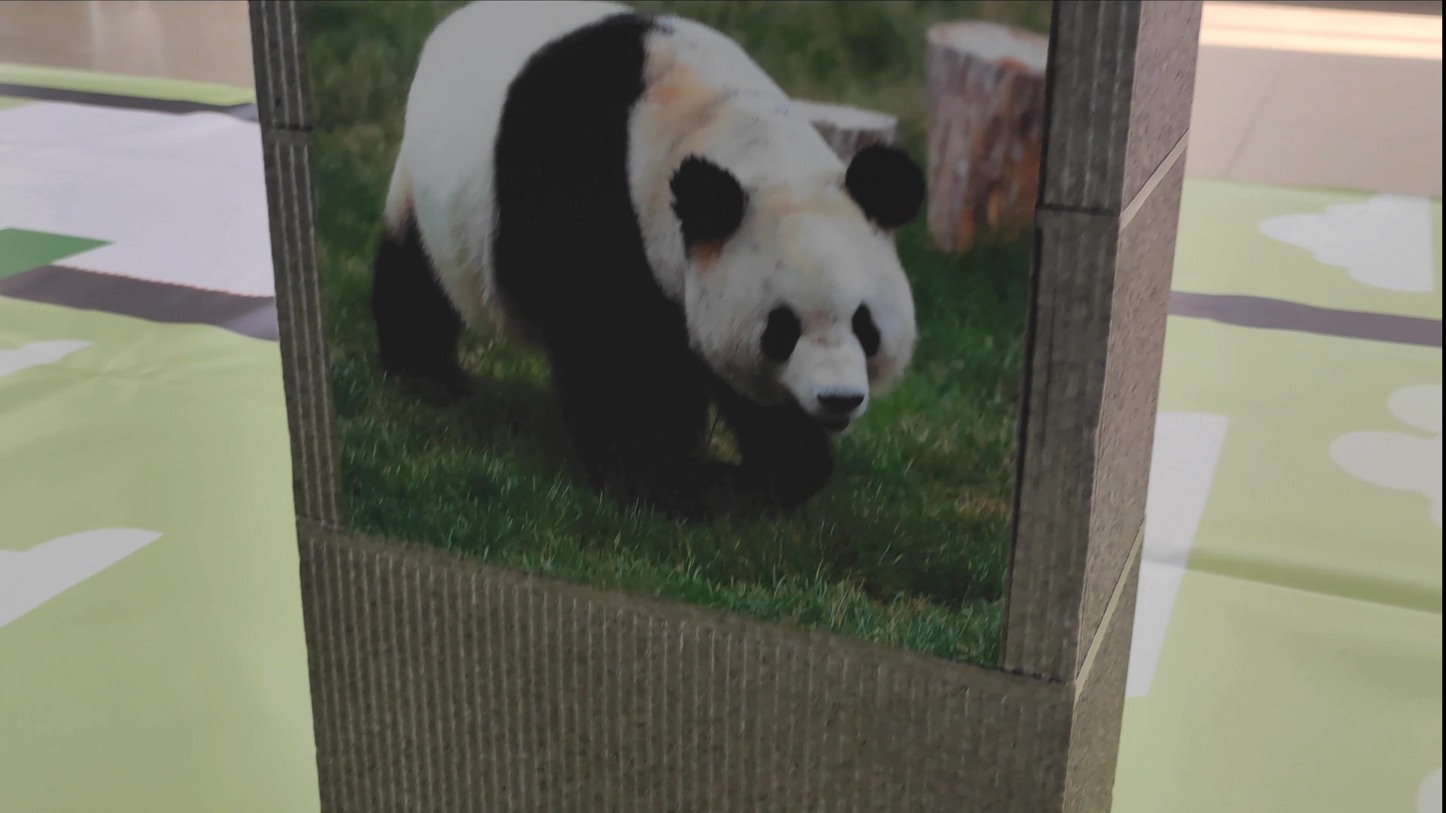panda: (370, 6, 940, 524)
